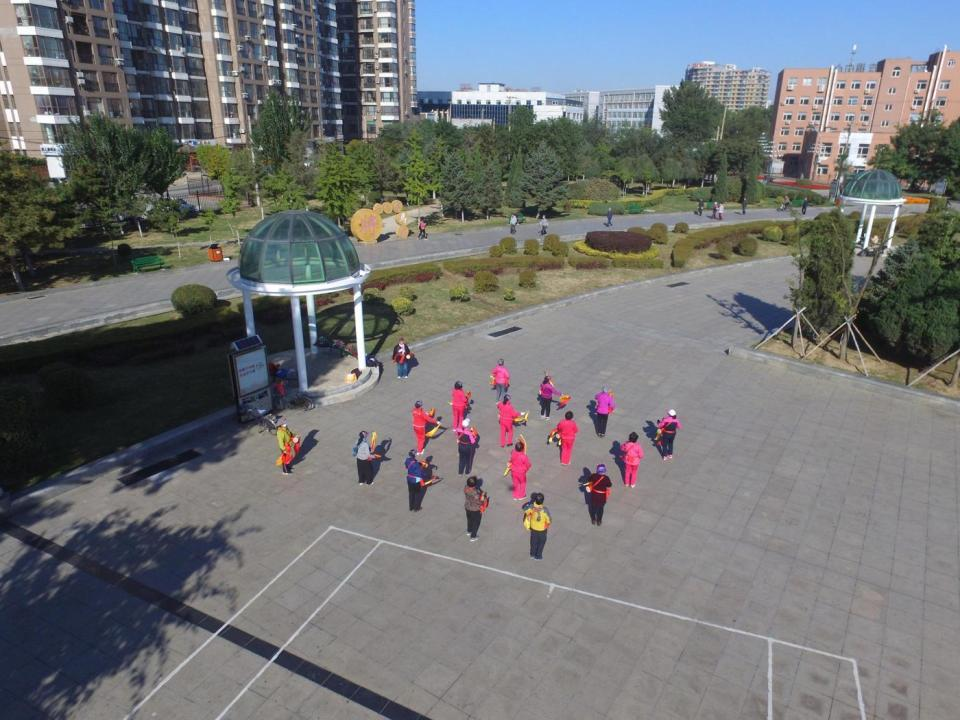car: (156, 195, 196, 218), (103, 200, 136, 222), (44, 175, 75, 194), (289, 153, 314, 169), (199, 167, 224, 179)
